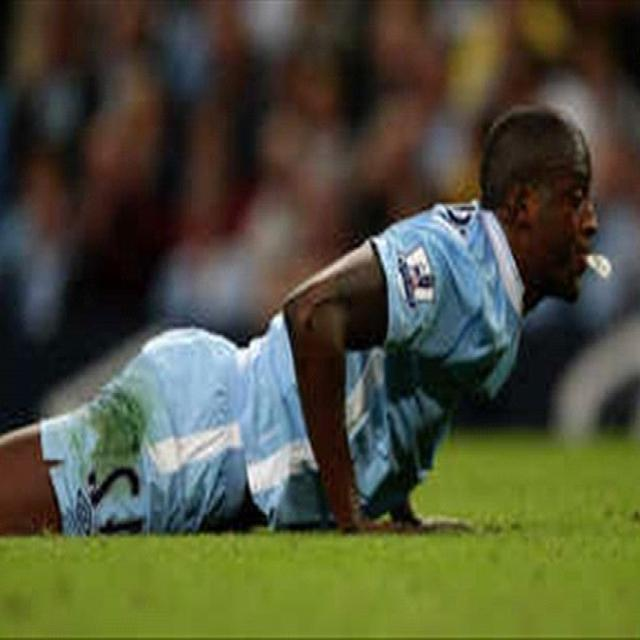Spitting: (474, 110, 615, 362)
